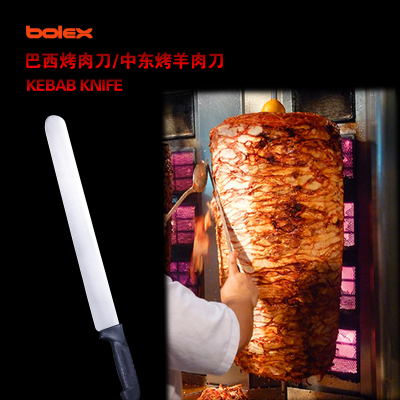knief: (30, 108, 151, 394)
